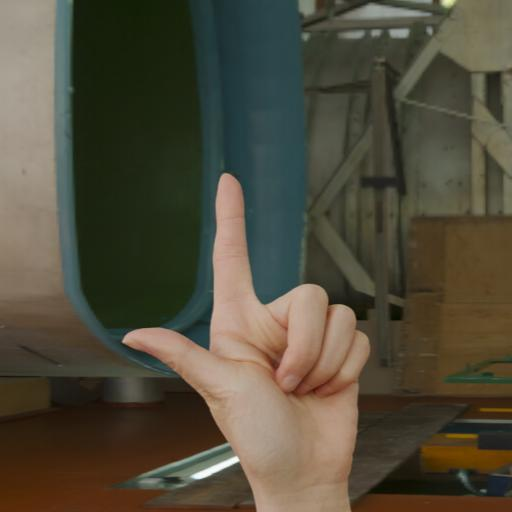L: (111, 164, 382, 512)
